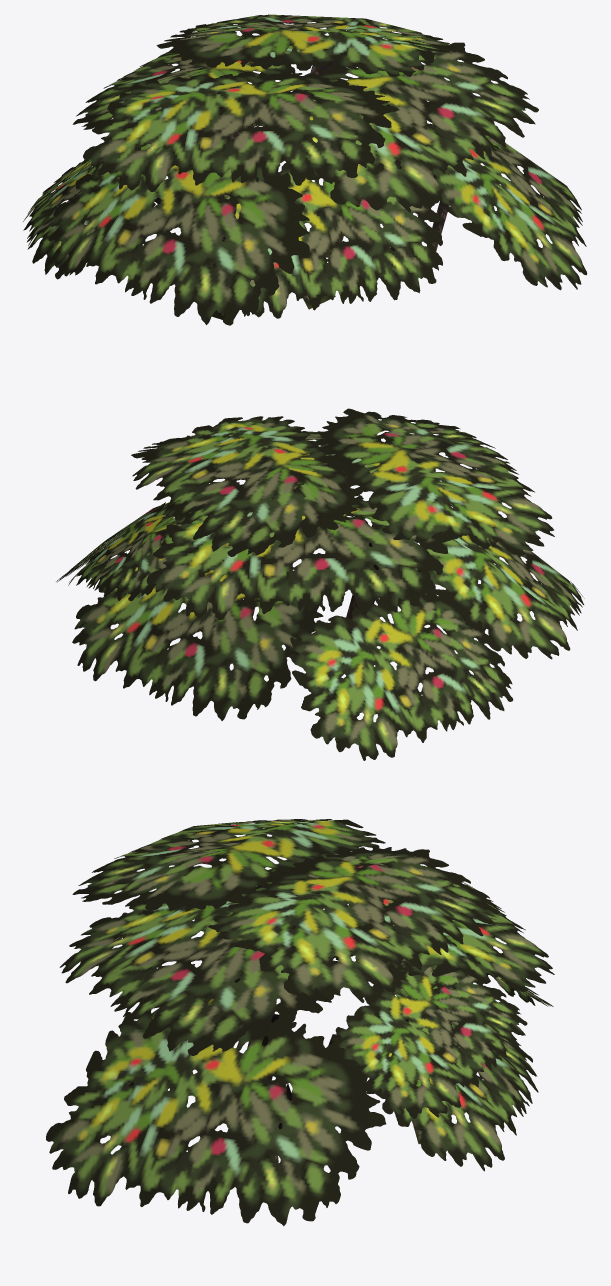
Rendered from foriage06.fbx.
3 renders of one model, top to bottom at view 1: azimuth 30°, elevation 25°; view 2: azimuth 150°, elevation 25°; view 3: azimuth 270°, elevation 25°, orthographic. The views are drawn at different scales.
Parts seen in each view (by area): view 1: foriage06; view 2: foriage06; view 3: foriage06.
Boxes of the visible parts, left/top/right/bottom form: foriage06: left=23, top=14, right=587, bottom=325; foriage06: left=56, top=408, right=584, bottom=760; foriage06: left=46, top=819, right=554, bottom=1226.
Bounding box in the file's own units: 2.59 × 1.1 × 2.17.
